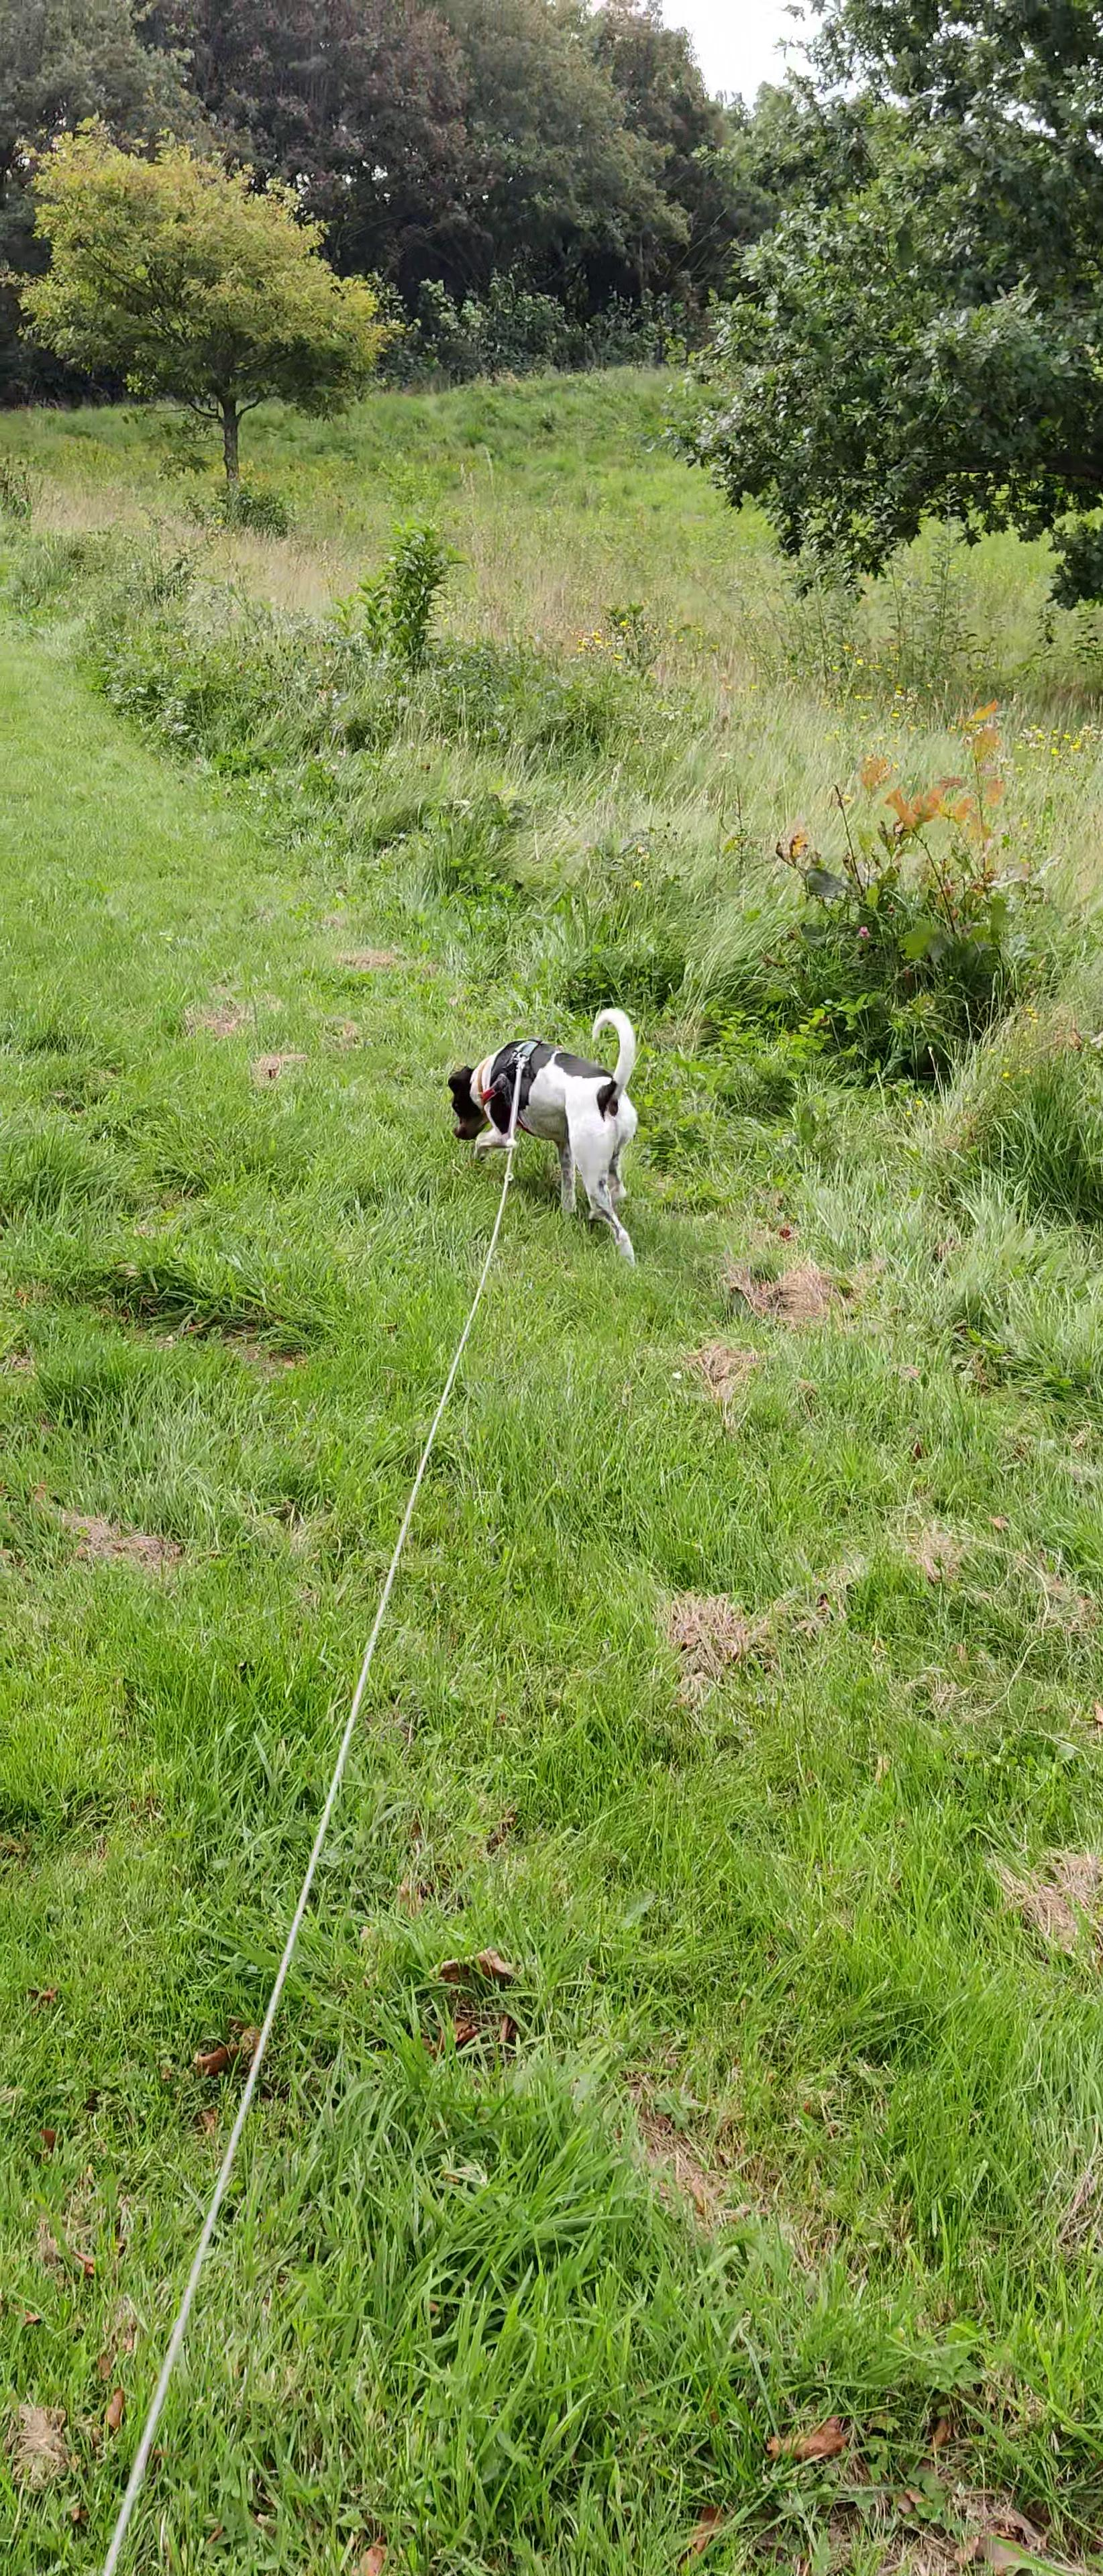Dog: (437, 992, 658, 1280)
